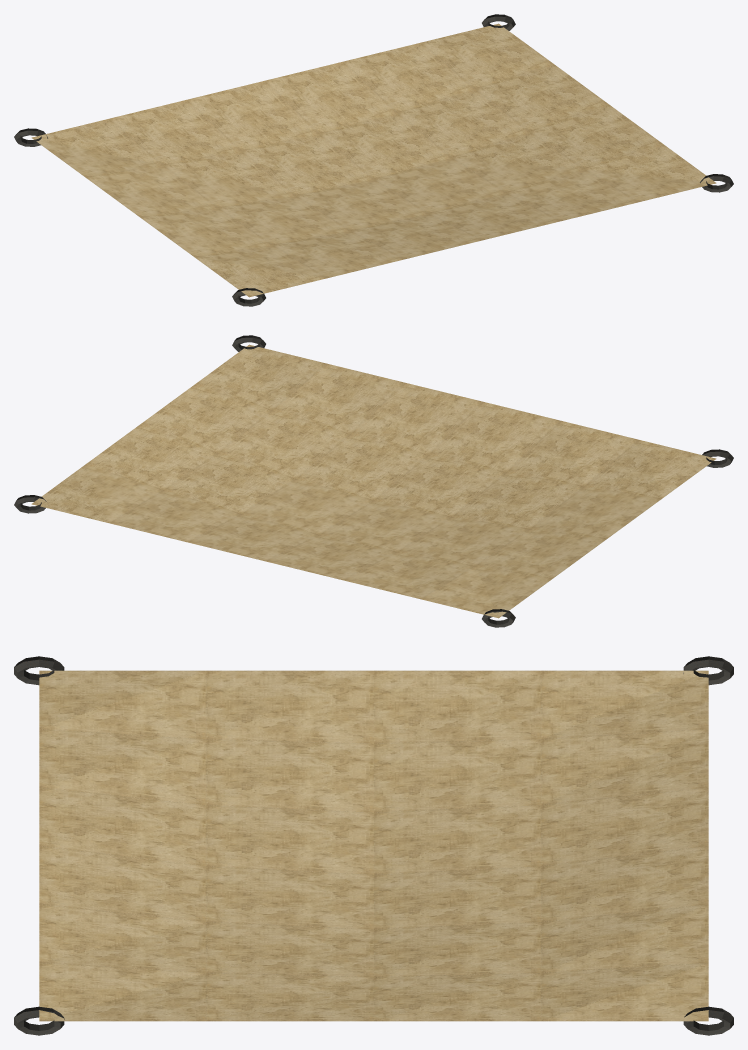
Rendered from PRP_SHELTER_TARP_001_TAUT.obj.
3 renders of one model, top to bottom at view 1: azimuth 30°, elevation 25°; view 2: azimuth 150°, elevation 25°; view 3: azimuth 270°, elevation 25°, orthographic. The views are drawn at different scales.
Parts seen in each view (by area): view 1: Tarp_TAUT, ReinforcedTiePoint; view 2: Tarp_TAUT, ReinforcedTiePoint; view 3: Tarp_TAUT, ReinforcedTiePoint.
Boxes of the visible parts, left/top/right/bottom form: Tarp_TAUT: left=31, top=23, right=716, bottom=297; ReinforcedTiePoint: left=14, top=14, right=733, bottom=306; Tarp_TAUT: left=31, top=344, right=716, bottom=618; ReinforcedTiePoint: left=14, top=335, right=733, bottom=627; Tarp_TAUT: left=39, top=670, right=708, bottom=1021; ReinforcedTiePoint: left=14, top=656, right=733, bottom=1035.
Size of the model in its own units: 2.77 by 0.1171 by 2.26.
2 materials, 2 textured.
